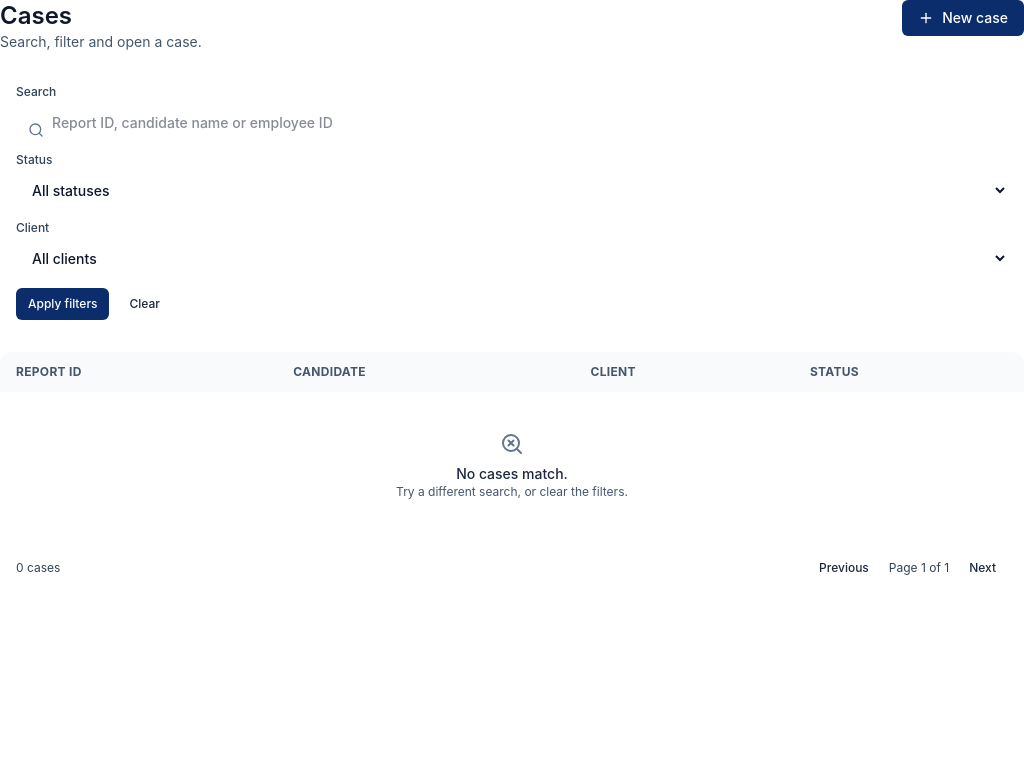
CasesPage › says which field of the new-case form is required before anything is submitted
Click the button "New case" at (963, 18), box 902,0 -> 1023,36
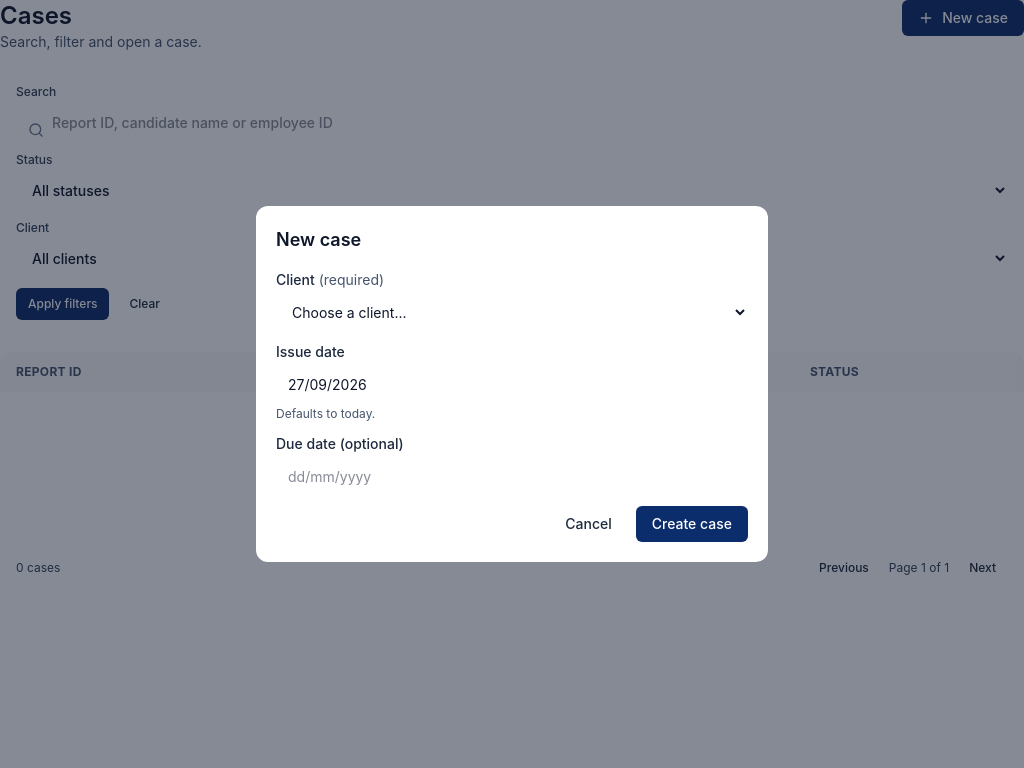
Expected: the dropdown labelled "Client (required)" is shown, 276,294 -> 748,330
Expected: the field labelled "Due date (optional)" is shown, 276,458 -> 748,494
